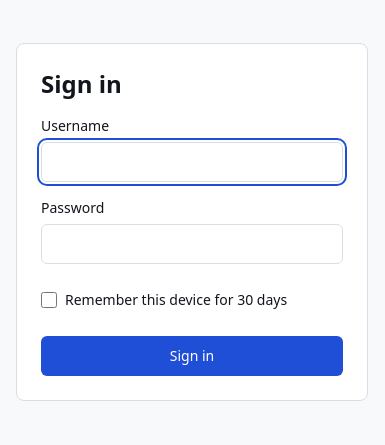
Test: login › shows the API error in plain language
This screenshot has width=385, height=445.
Type "owner" into the field labelled "Username" at (192, 162), box [41,142,343,182]
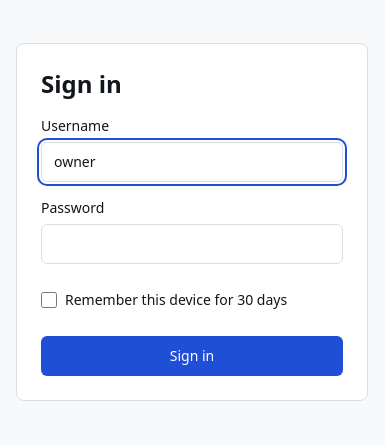
Type "nope" into the password field labelled "Password" at (192, 244), box [41,224,343,264]
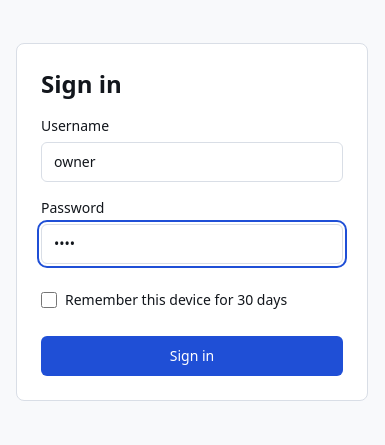
Click the button "Sign in" at (192, 356), box [41,336,343,376]
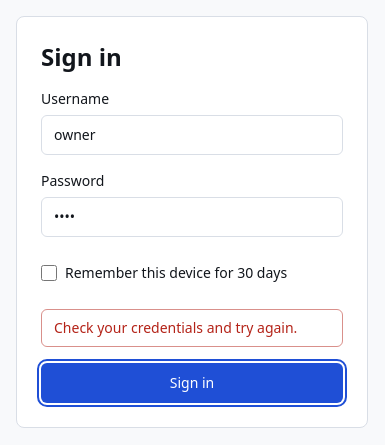
Expected: the message reads "Check your credentials and try again.", [54,318,297,337]
